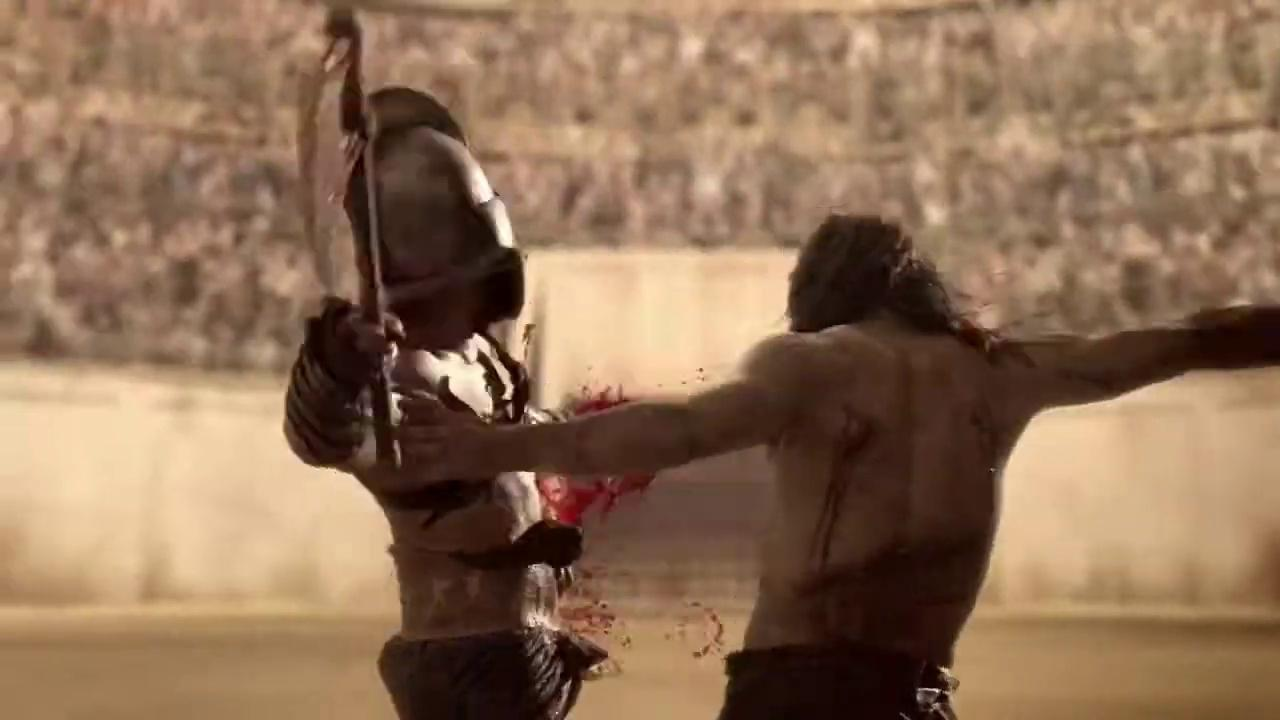Fire: (559, 564, 642, 679), (537, 474, 655, 526), (640, 601, 729, 662), (553, 383, 628, 419)
